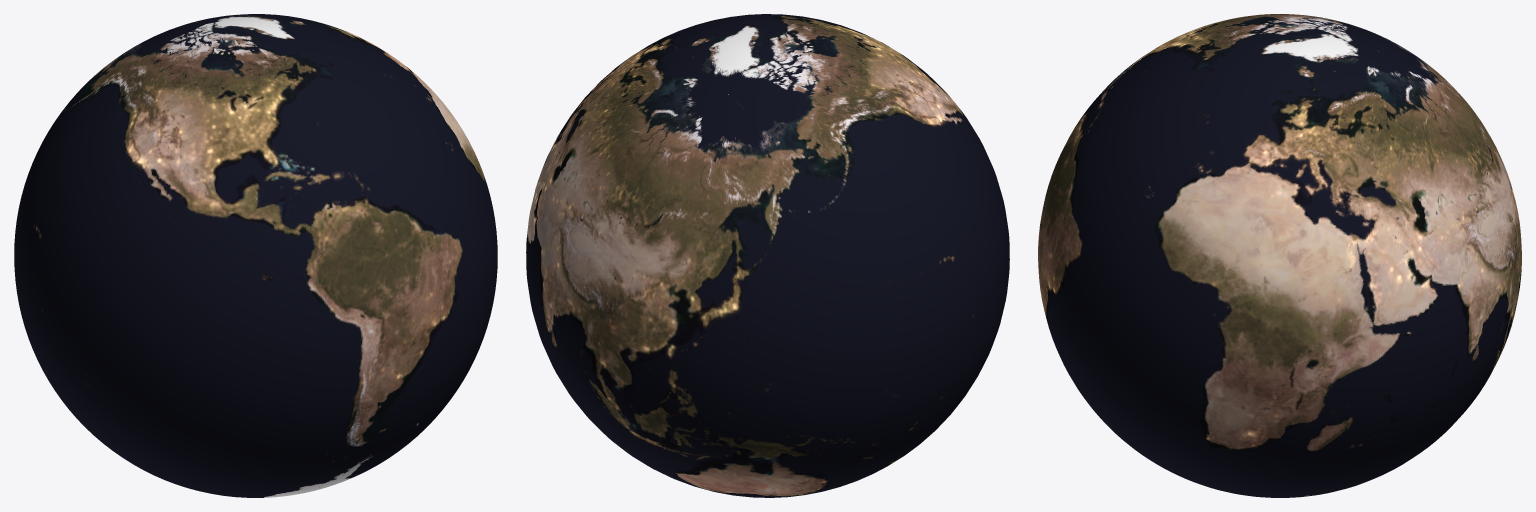
3 renders of one model, left to right at view 1: azimuth 30°, elevation 25°; view 2: azimuth 150°, elevation 25°; view 3: azimuth 270°, elevation 25°, orthographic.
Visible parts, largest first — view 1: Clouds_3; view 2: Clouds_3; view 3: Clouds_3.
Part boxes in pixels (left/top/right/bottom): Clouds_3: left=14, top=14, right=497, bottom=497; Clouds_3: left=526, top=14, right=1009, bottom=497; Clouds_3: left=1038, top=14, right=1521, bottom=497.
Size of the model in its own units: 0.6376 by 0.638 by 0.6379.
Materials: 2 (1 with a texture image).
